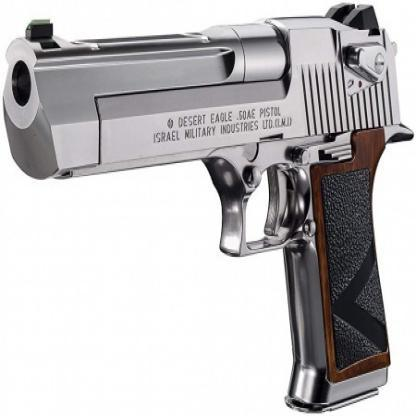Pistol: (0, 0, 415, 414)
